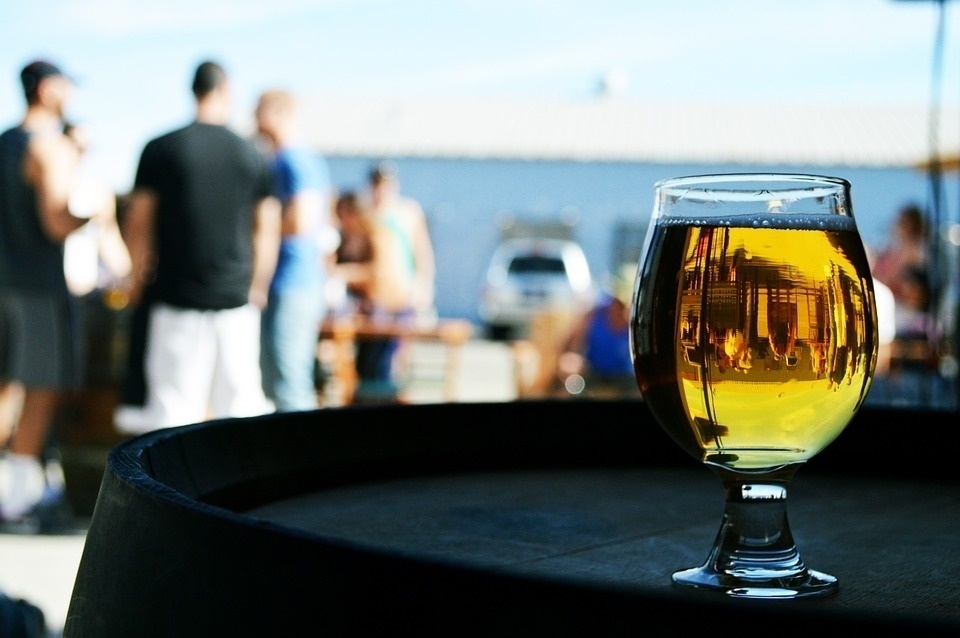whiskey: (626, 166, 886, 571)
